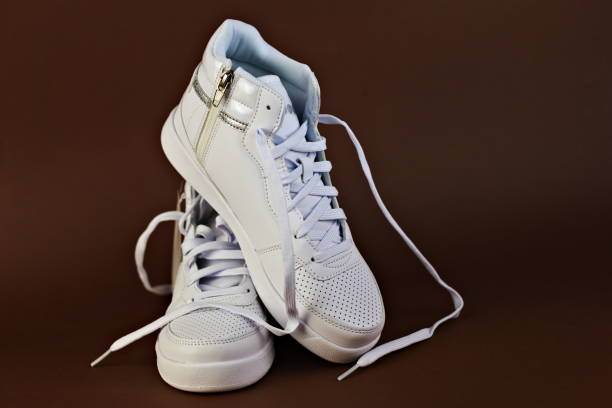Footwear: (148, 18, 403, 396), (164, 18, 391, 365)
